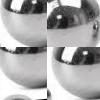ironball: (51, 46, 99, 99), (47, 0, 99, 46), (0, 0, 46, 46), (0, 47, 47, 89)
